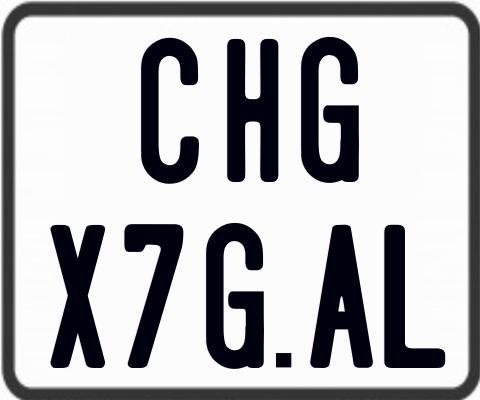7: (123, 223, 184, 373)
A: (309, 225, 376, 368)
C: (139, 37, 201, 187)
G: (298, 37, 361, 189), (203, 221, 264, 367)
H: (226, 37, 282, 182)
L: (382, 224, 448, 371)
X: (47, 222, 108, 365)
